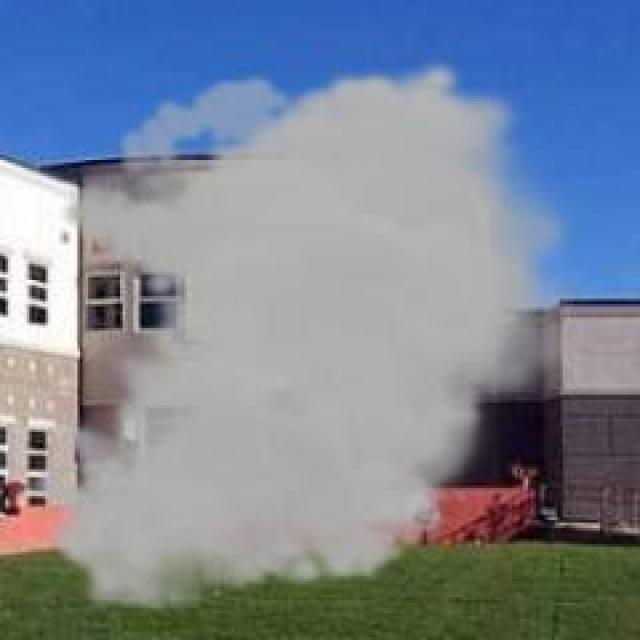Smoke: (42, 65, 560, 615)
